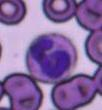N: (26, 33, 78, 83)
